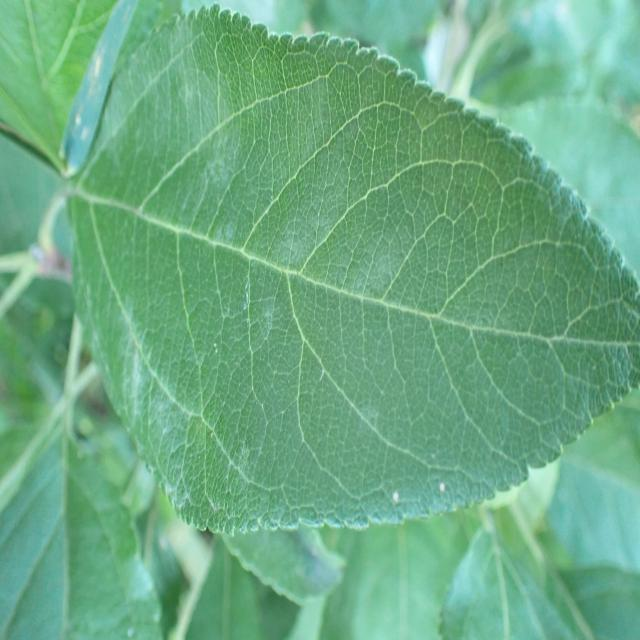Powdery_mildew: (64, 1, 636, 520)
